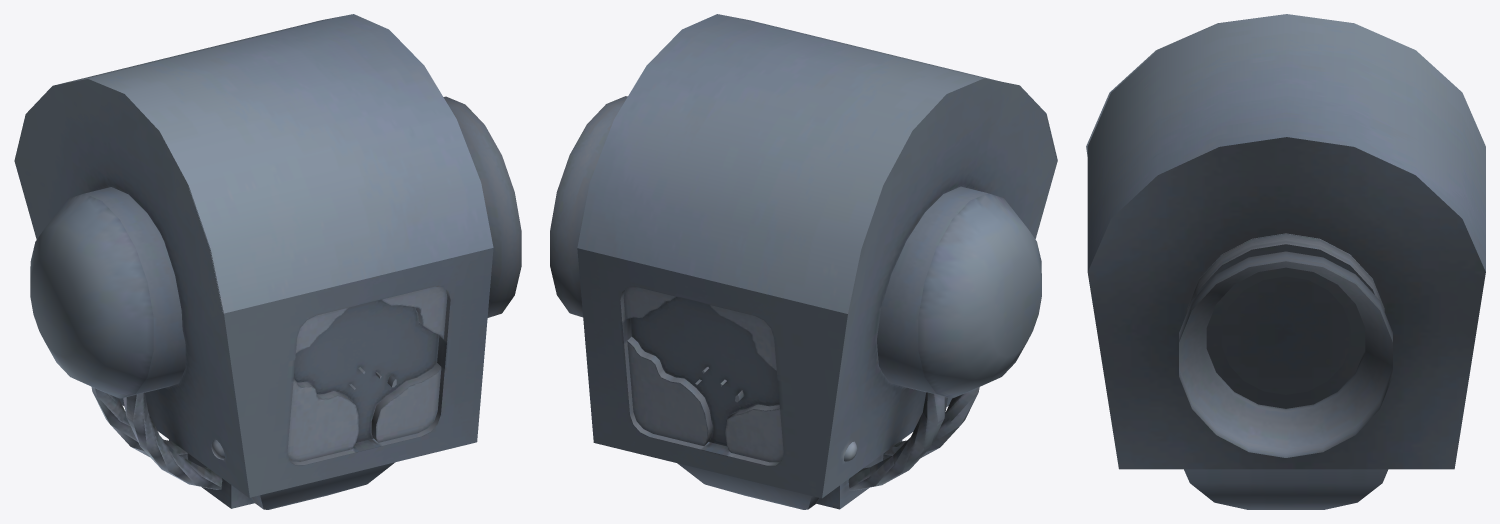
Rendered from FanBase.DAE.
3 renders of one model, left to right at view 1: azimuth 30°, elevation 25°; view 2: azimuth 150°, elevation 25°; view 3: azimuth 270°, elevation 25°, orthographic. The views are drawn at different scales.
Parts seen in each view (by area): view 1: body; view 2: body; view 3: body.
Part boxes in pixels (<box>): body: <box>14,14,521,509</box>; body: <box>550,14,1057,509</box>; body: <box>1086,14,1485,509</box>.
Size of the model in its own units: 0.4609 by 0.4083 by 0.4702.
Materials: 1 (1 with a texture image).
